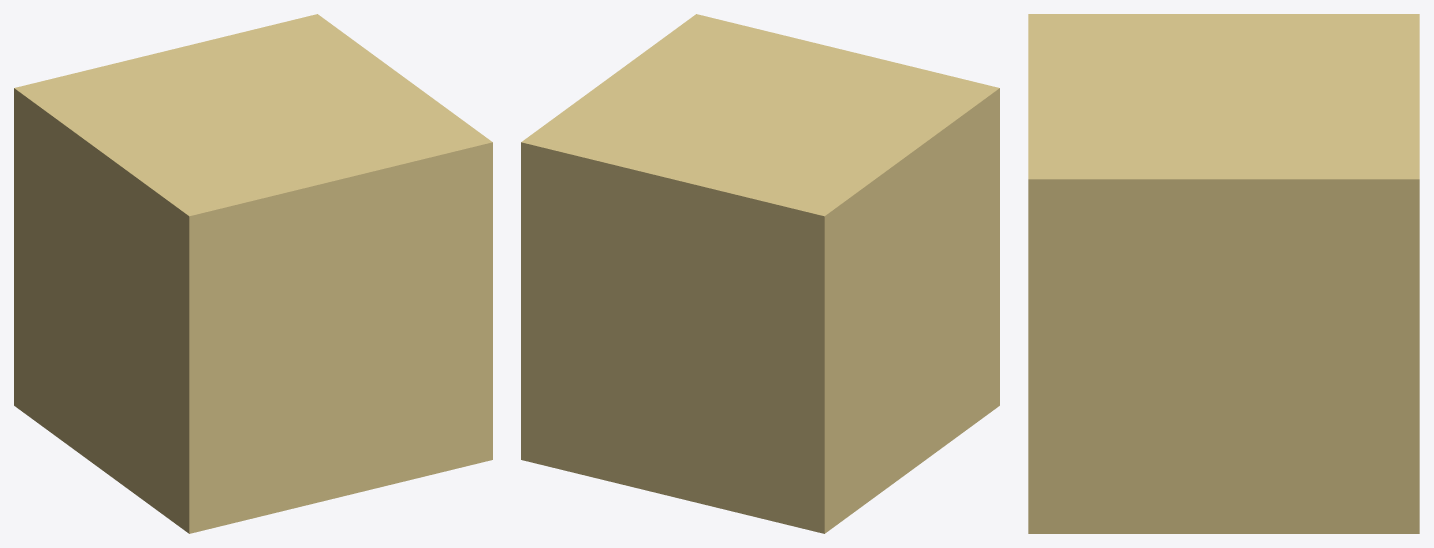
File: 35_thatch.glb
The picture shows the model from 3 angles, left to right: view 1: azimuth 30°, elevation 25°; view 2: azimuth 150°, elevation 25°; view 3: azimuth 270°, elevation 25°; orthographic projection. The views are drawn at different scales.
Visible parts, largest first — view 1: Core; view 2: Core; view 3: Core.
Boxes of the visible parts, <box> form: Core: <box>14,14,492,533</box>; Core: <box>521,14,999,533</box>; Core: <box>1028,14,1419,533</box>.
Bounding box in the file's own units: 1 × 1 × 1.
